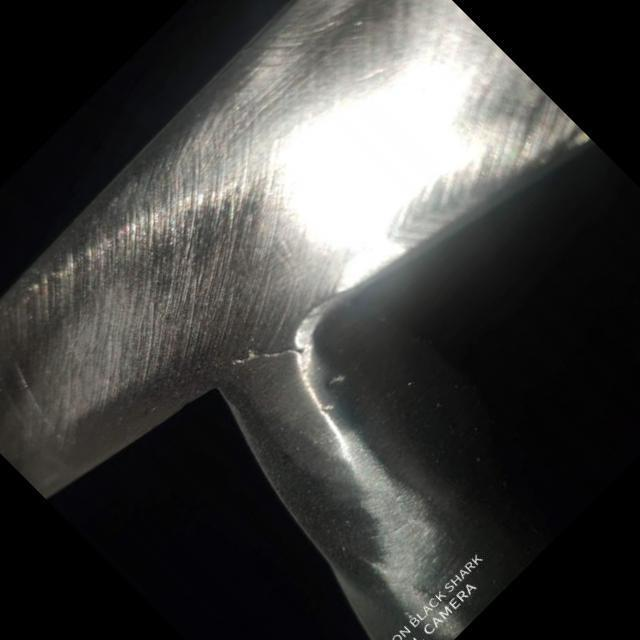defect: (227, 339, 314, 369)
